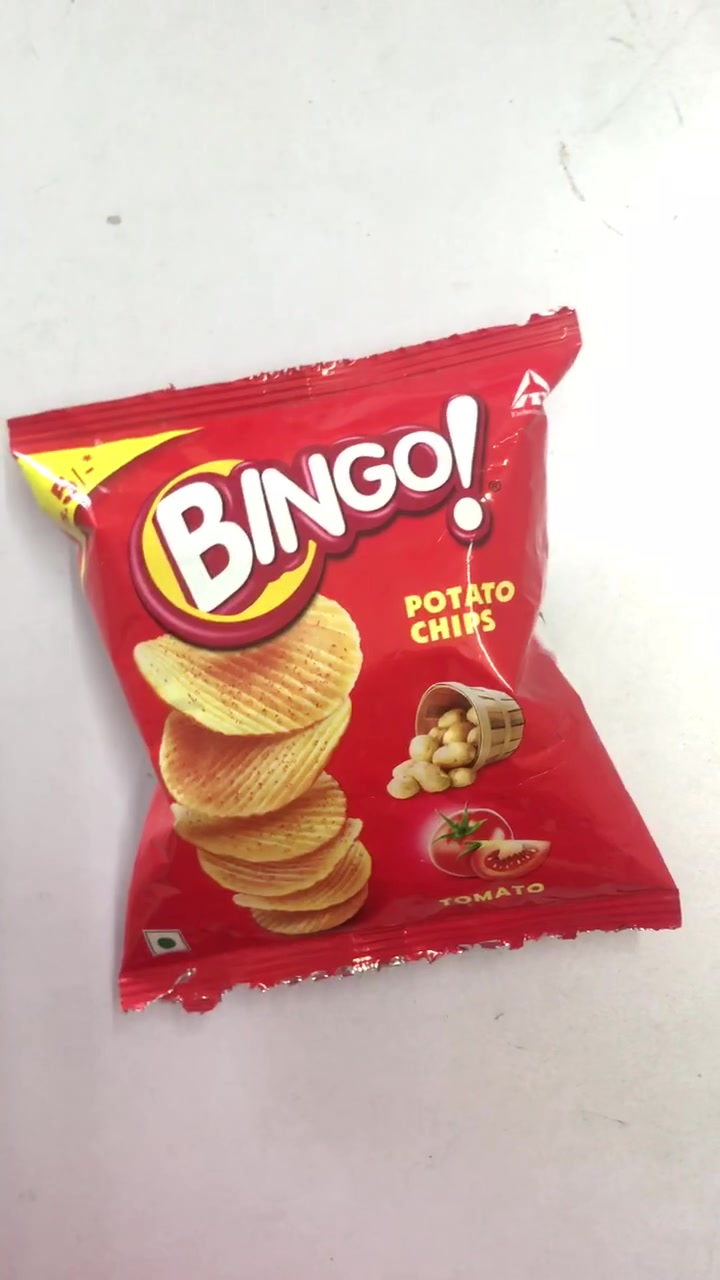Bingo: (13, 417, 674, 938)
